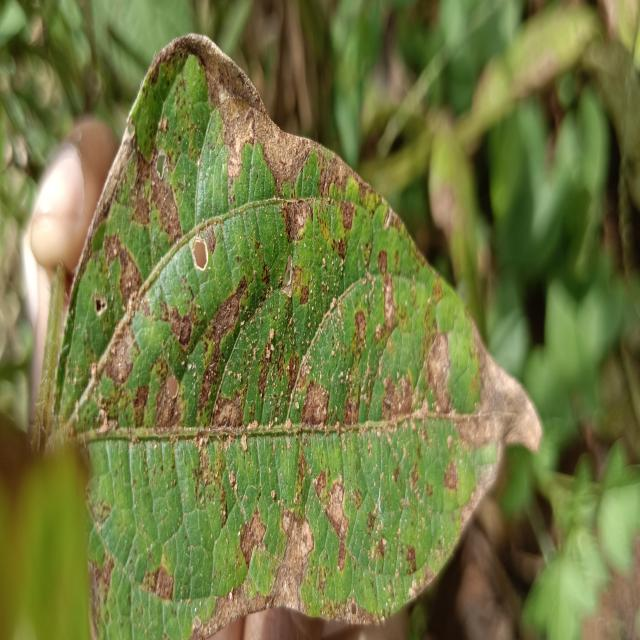Black gram_leaf spot: (45, 28, 542, 627)
